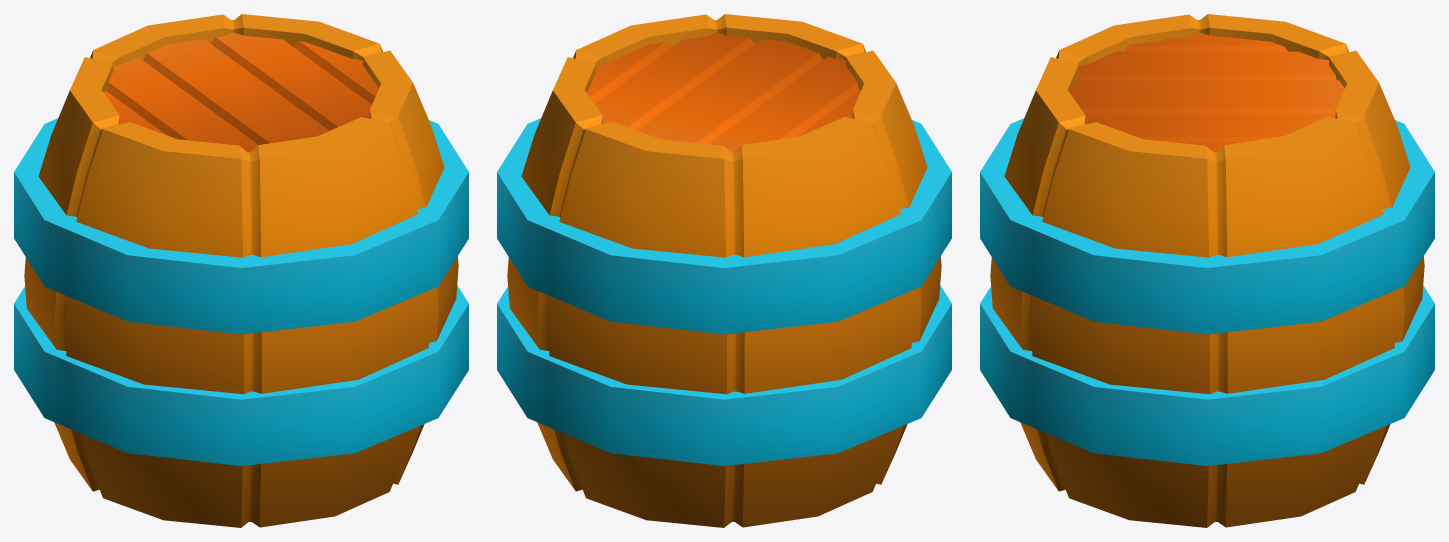
Rendered from Props_Wooden_Barrel_01.glb.
3 views of the same model, side by side, from view 1: azimuth 30°, elevation 25°; view 2: azimuth 150°, elevation 25°; view 3: azimuth 270°, elevation 25° (orthographic).
Visible parts, largest first — view 1: Props_Wooden_Barrel_01; view 2: Props_Wooden_Barrel_01; view 3: Props_Wooden_Barrel_01.
Part boxes in pixels (bbox=[...]): Props_Wooden_Barrel_01: bbox=[14, 14, 468, 527]; Props_Wooden_Barrel_01: bbox=[497, 14, 951, 527]; Props_Wooden_Barrel_01: bbox=[980, 14, 1434, 527].
Bounding box in the file's own units: 1.27 × 1.13 × 1.27.
Materials: 1 (1 with a texture image).
